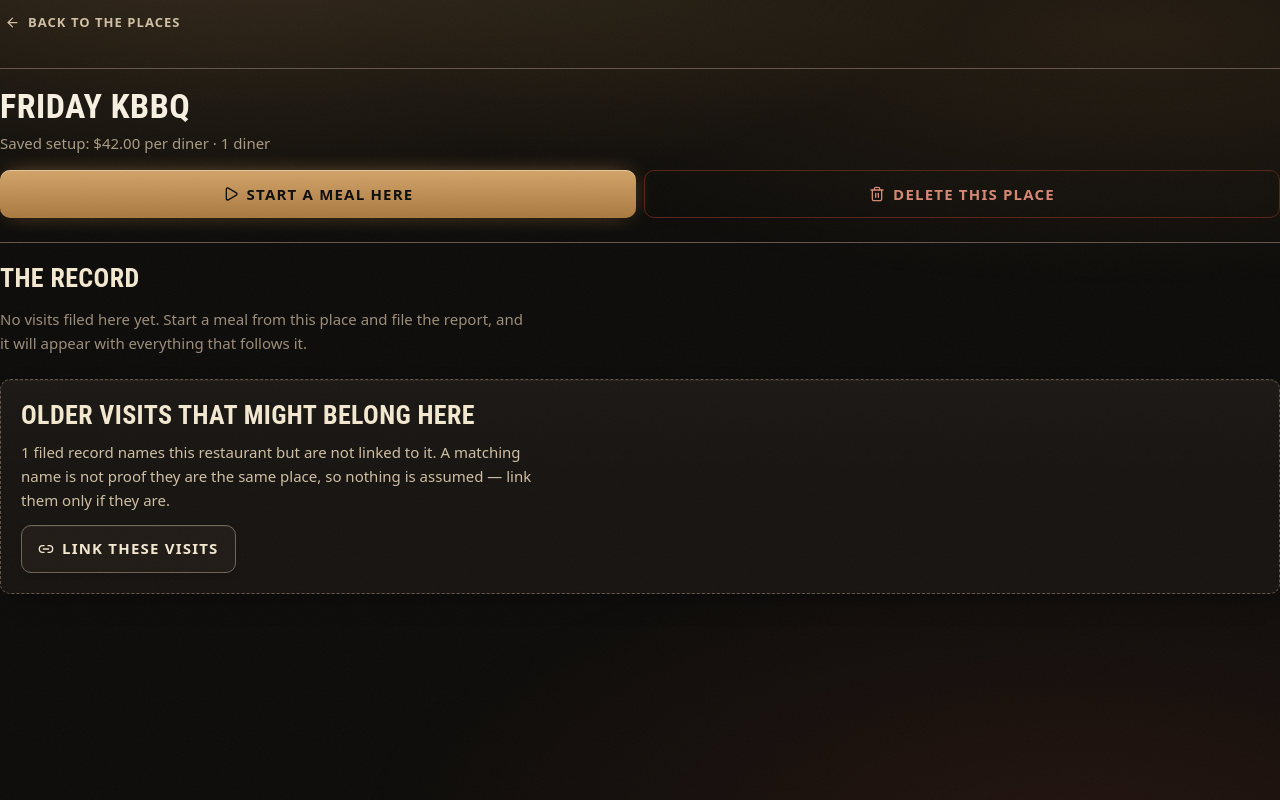
Linking older visits › counts the visit without a reload once the write lands
The image size is (1280, 800).
Expected: the heading "Older visits that might belong here" is shown, [21, 400, 475, 430]
Click the button "Link these visits" at [128, 549], box [21, 525, 236, 573]
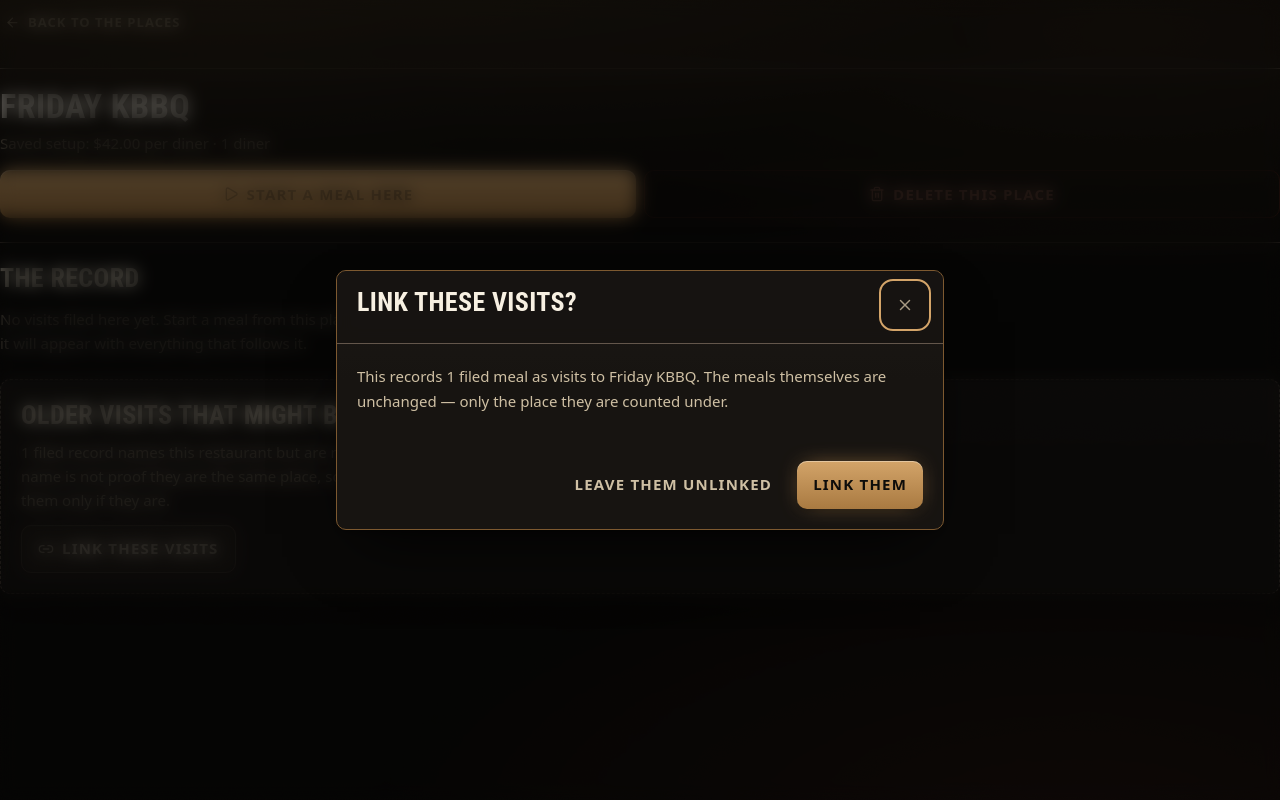
Expected: the text "No visits filed here yet" is shown, [0, 309, 523, 353]
Expected: the heading "Link these visits?" is shown, [357, 287, 577, 318]
Click the button "Link them" at [860, 485], box [797, 461, 923, 509]
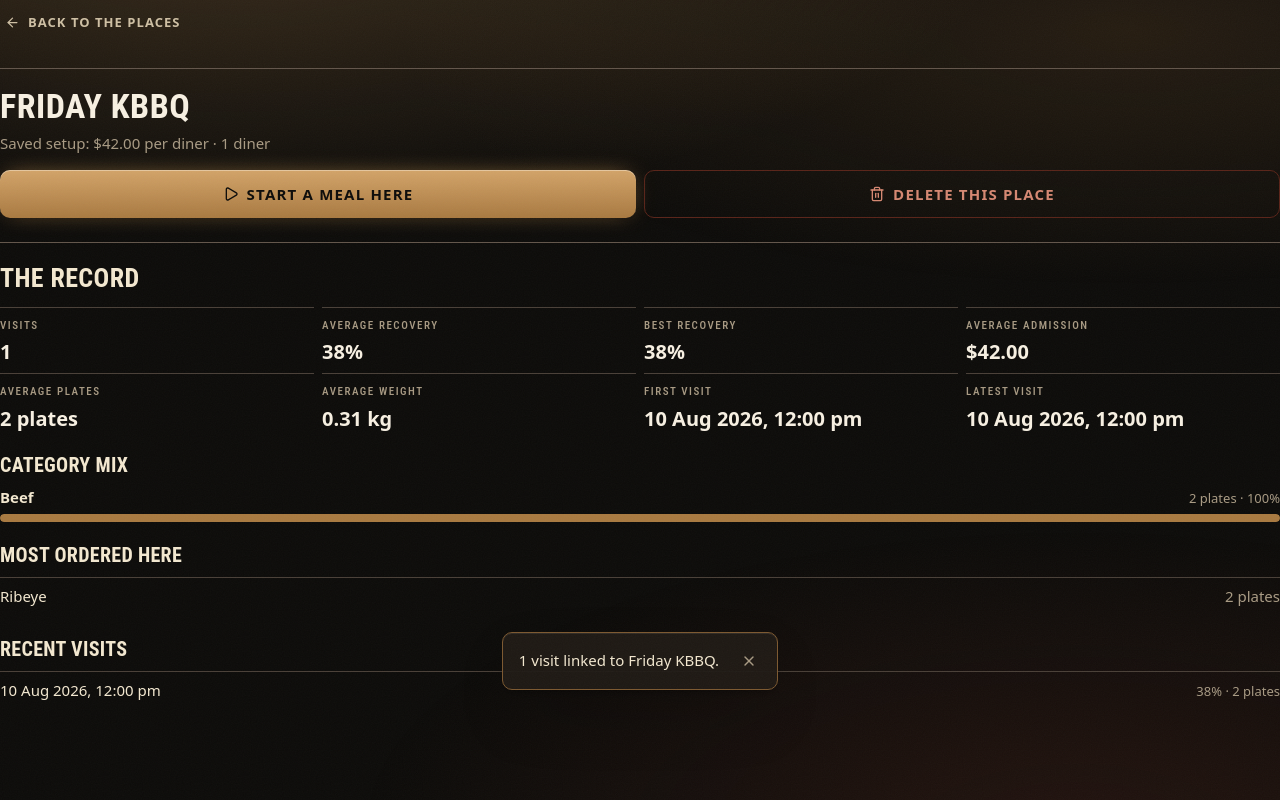
Expected: the heading "Recent visits" is shown, [0, 637, 127, 661]
Expected: the text "Average recovery" is shown, [322, 319, 439, 332]
Expected: the text "No visits filed here yet" is gone
